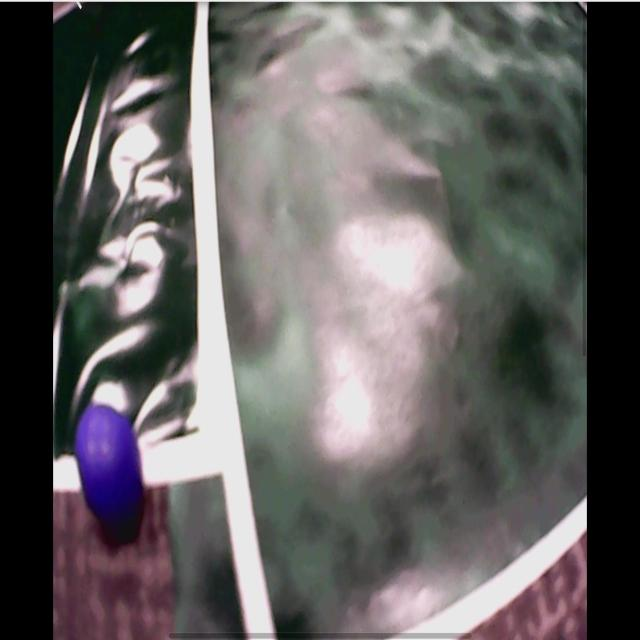ball: (75, 405, 140, 513)
